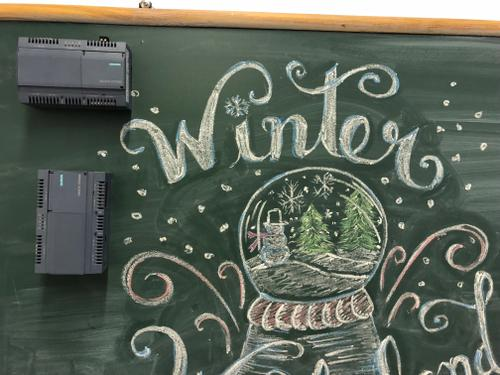device: (16, 36, 132, 111), (35, 170, 111, 275)
